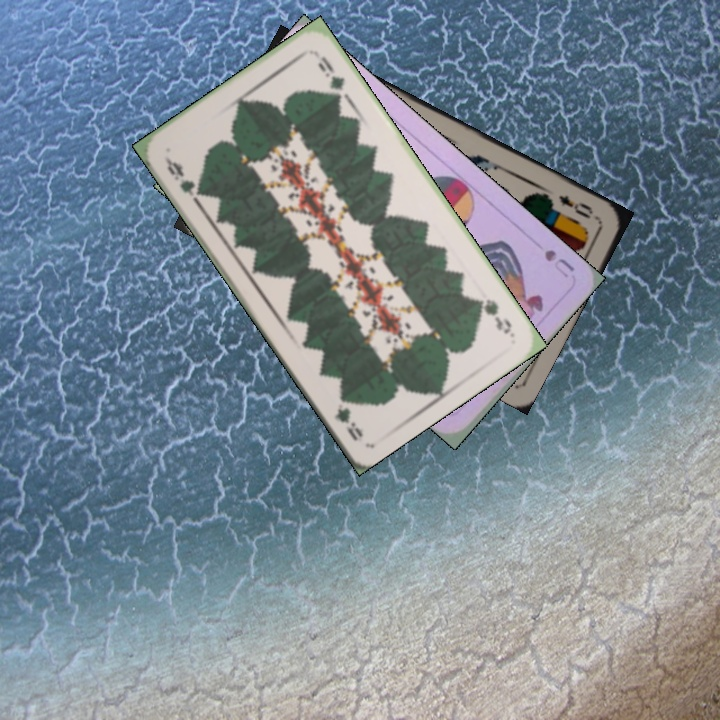EO: (554, 191, 596, 222)
G9: (160, 153, 207, 204), (473, 294, 516, 338)
SU: (540, 245, 577, 281)
